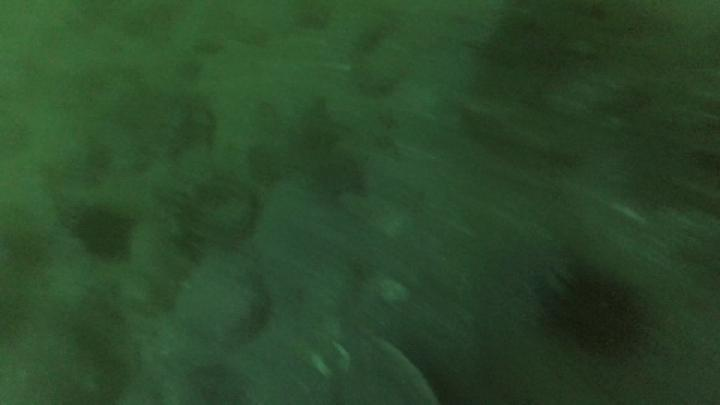echinus: (573, 283, 643, 360), (75, 213, 130, 258)
